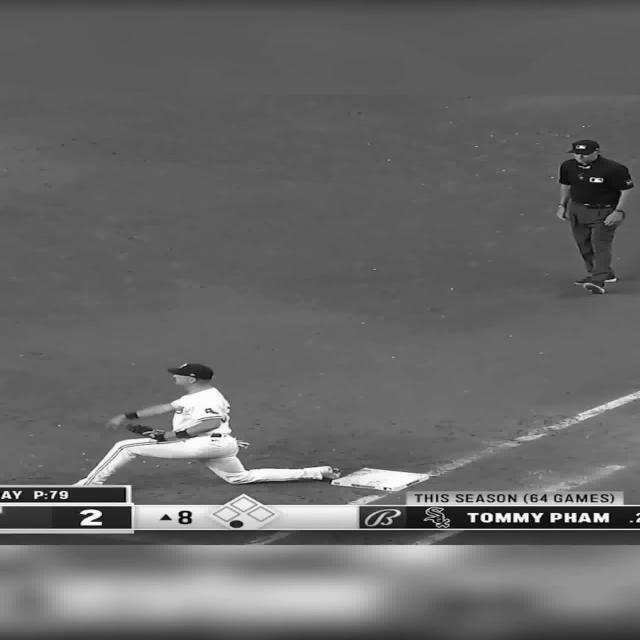base: (332, 465, 435, 491)
baseball_glove: (126, 423, 166, 442)
shoe: (574, 276, 616, 285), (320, 466, 341, 480), (72, 478, 104, 485), (582, 283, 604, 293)
